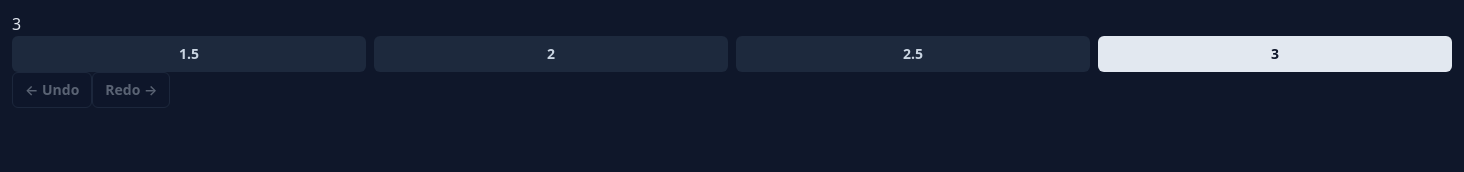
Scenario: Toolbar buttons › UndoButton / RedoButton disabled state › Undo becomes enabled after a SET action; Redo becomes enabled after Undo
Expected: the text with test id "self-cost" reads "3", [12,13,21,35]
# SET_COST で history が積まれる
Click the button "2".
click(551, 54)  # box [374,36,728,72]
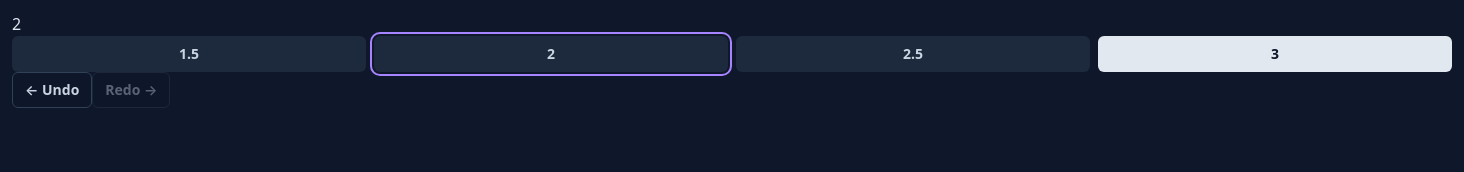
Expected: the button with aria-label "やり直す" is disabled, [92,72,170,108]
Now the text with test id "self-cost" reads "2", box [12,13,21,35]
Now the button with aria-label "元に戻す" is enabled
Click the button with aria-label "元に戻す".
click(52, 90)  # box [12,72,92,108]
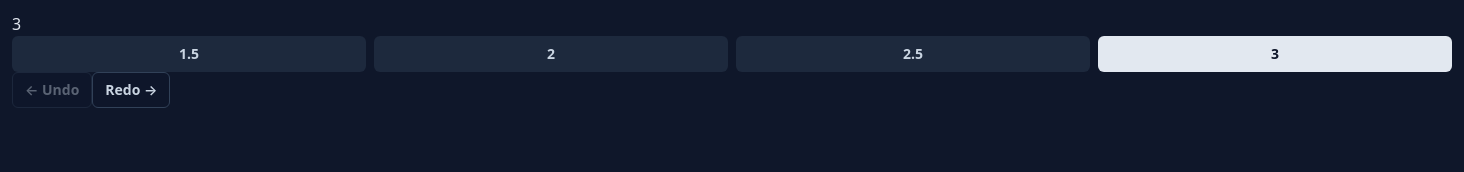
Now the text with test id "self-cost" reads "3", box [12,13,21,35]
Now the button with aria-label "やり直す" is enabled
Click the button with aria-label "やり直す".
click(131, 90)  # box [92,72,170,108]
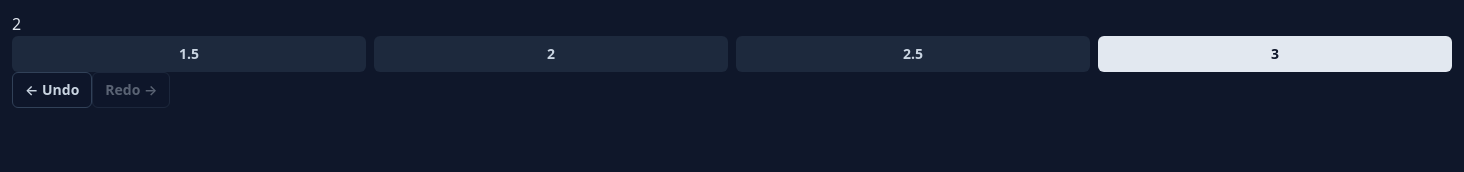
Now the text with test id "self-cost" reads "2", box [12,13,21,35]
